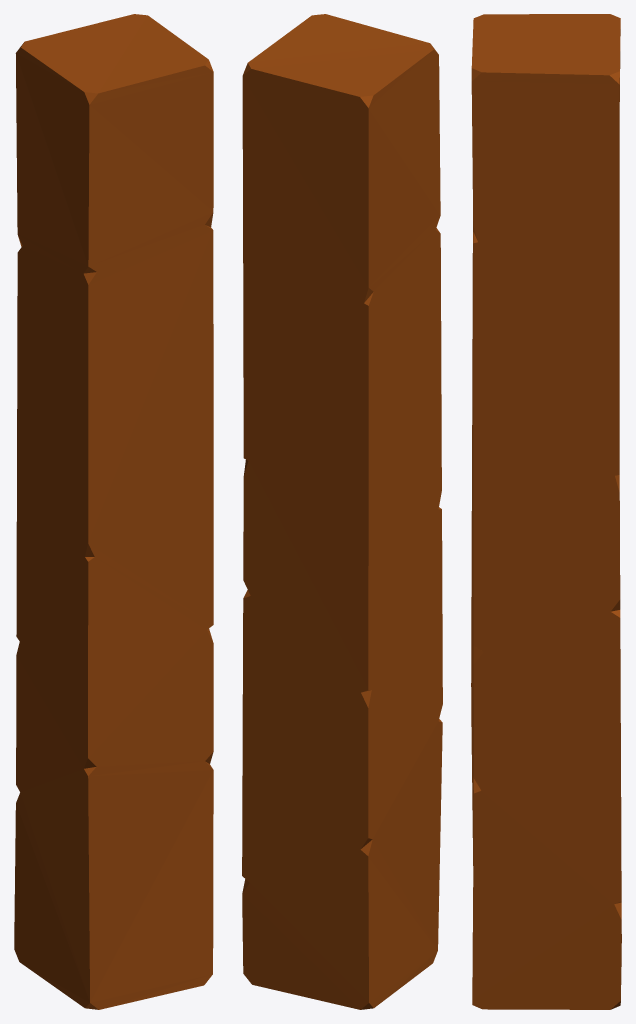
Rendered from WoodPillarSingle.fbx.
3 renders of one model, left to right at view 1: azimuth 30°, elevation 25°; view 2: azimuth 150°, elevation 25°; view 3: azimuth 270°, elevation 25°, orthographic. The views are drawn at different scales.
Visible parts, largest first — view 1: WoodPillarSingle; view 2: WoodPillarSingle; view 3: WoodPillarSingle.
Part boxes in pixels (<box>): WoodPillarSingle: <box>14,14,213,1009</box>; WoodPillarSingle: <box>242,14,442,1009</box>; WoodPillarSingle: <box>471,14,621,1009</box>.
Bounding box in the file's own units: 204 × 1405 × 205.
